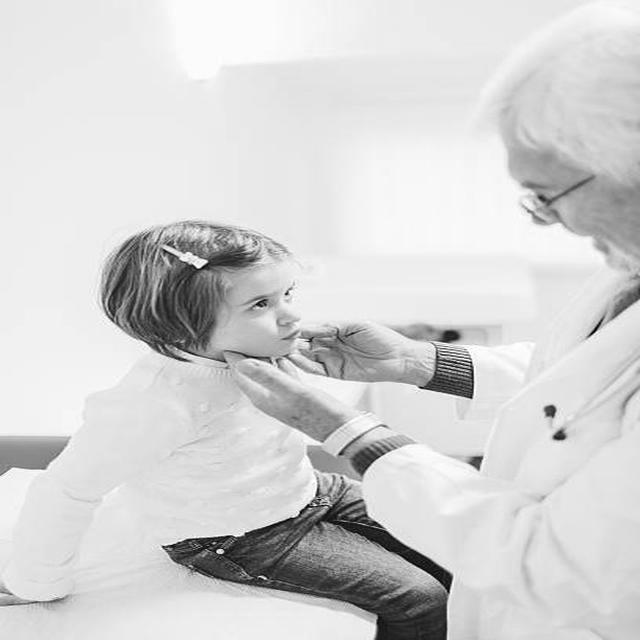Fear: (238, 264, 301, 356)
